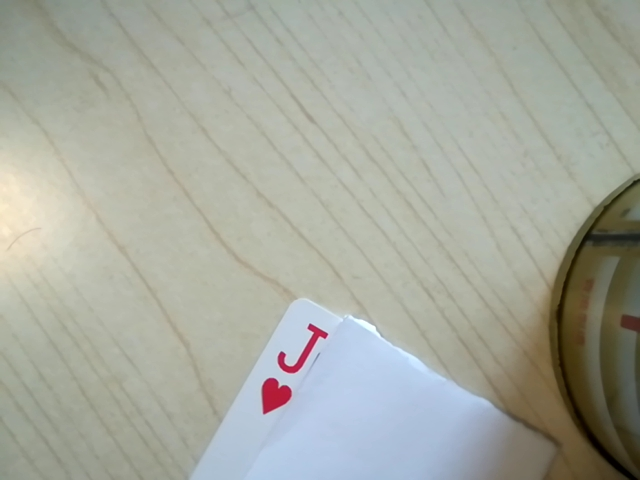hx j: (248, 319, 331, 421)
